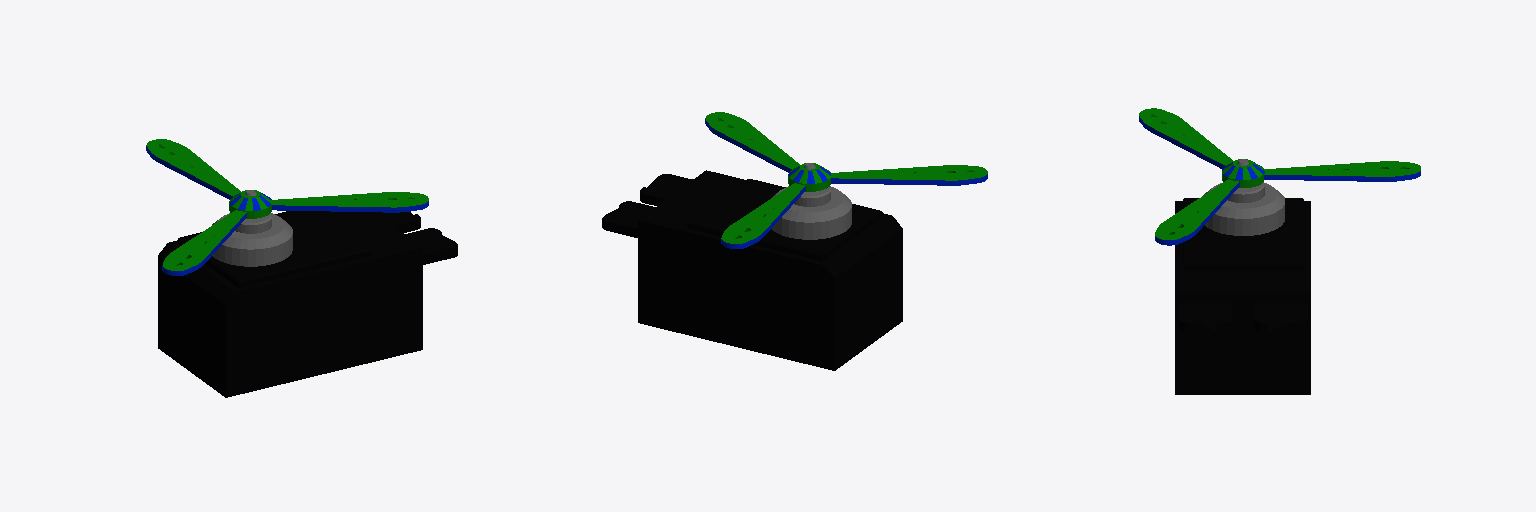
The model's file is servo_motor.obj.
3 views of the same model, side by side, from view 1: azimuth 30°, elevation 25°; view 2: azimuth 150°, elevation 25°; view 3: azimuth 270°, elevation 25° (orthographic).
Parts seen in each view (by area): view 1: body, wing; view 2: body, wing; view 3: body, wing.
Part boxes in pixels (bbox=[...]): body: bbox=[158, 211, 457, 397]; wing: bbox=[146, 139, 428, 275]; body: bbox=[602, 170, 902, 370]; wing: bbox=[705, 112, 987, 248]; body: bbox=[1175, 182, 1310, 394]; wing: bbox=[1139, 108, 1420, 245].
Bounding box in the file's own units: 3.15 × 1.62 × 2.49.